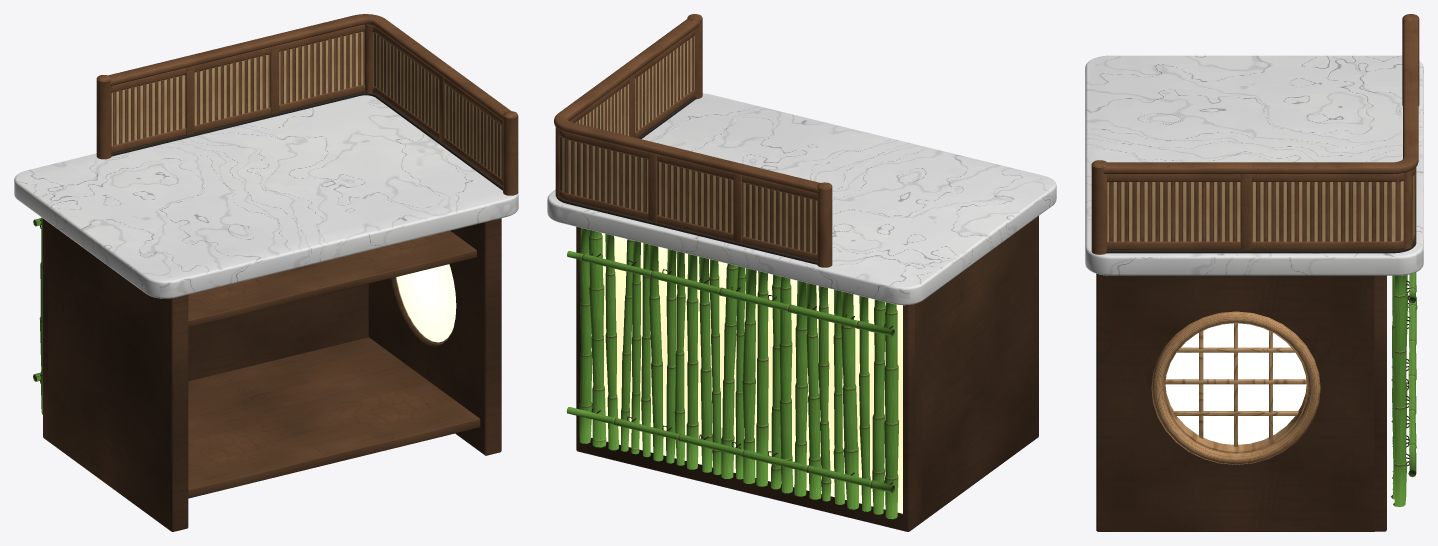
Rendered from tillcounter.glb.
3 renders of one model, left to right at view 1: azimuth 30°, elevation 25°; view 2: azimuth 150°, elevation 25°; view 3: azimuth 270°, elevation 25°, orthographic. The views are drawn at different scales.
Parts seen in each view (by area): view 1: TillMarble, TillEnd-1, TillShelfLow, TillLattice, TillEnd1, TillFace, TillShelfHigh, TillCap, TillWindowPaper, TillRailLow, TillRailTop, TillShoe (+4 smaller); view 2: TillMarble, TillEnd-1, TillLattice, TillBambooGlow, TillFace, TillCap, TillBamboo0, TillBamboo3, TillBambooRail69, TillBamboo24, TillBambooRail17, TillRailTop (+29 smaller); view 3: TillEnd1, TillMarble, TillLattice, TillWindowPaper, TillCap, TillWindowRing, TillFace, TillBamboo25, TillRailLow, TillRailTop, TillWindowSleeve, TillPostEnd (+10 smaller).
Part boxes in pixels (x1,y1,x2,y2): TillMarble: (14,95,518,298); TillEnd-1: (48,222,188,531); TillShelfLow: (188,337,480,498); TillLattice: (111,31,502,179); TillEnd1: (368,218,501,455); TillFace: (43,218,368,441); TillShelfHigh: (188,231,476,327); TillCap: (108,14,511,120); TillWindowPaper: (396,264,456,342); TillRailLow: (111,85,502,186); TillRailTop: (111,24,502,125); TillShoe: (111,92,502,190); TillMarble: (547,93,1056,305); TillEnd-1: (915,216,1038,522); TillLattice: (560,36,817,253); TillBambooGlow: (591,233,902,513); TillFace: (576,226,921,531); TillCap: (554,19,819,193); TillBamboo0: (884,302,898,519); TillBamboo3: (841,291,858,509); TillBambooRail69: (567,251,894,336); TillBamboo24: (589,230,606,447); TillBambooRail17: (566,407,894,492); TillRailTop: (559,29,817,200); TillEnd1: (1096,273,1374,531); TillMarble: (1085,55,1423,275); TillLattice: (1107,174,1414,241); TillWindowPaper: (1165,323,1306,444); TillCap: (1103,21,1418,174); TillWindowRing: (1151,311,1320,464); TillFace: (1359,275,1386,531); TillBamboo25: (1393,275,1407,506); TillRailLow: (1107,189,1415,249); TillRailTop: (1107,168,1415,181); TillWindowSleeve: (1164,323,1308,453); TillPostEnd: (1091,165,1107,254).
Bounding box in the file's own units: 1.3 × 1.13 × 0.92.
17 materials, 14 textured.
